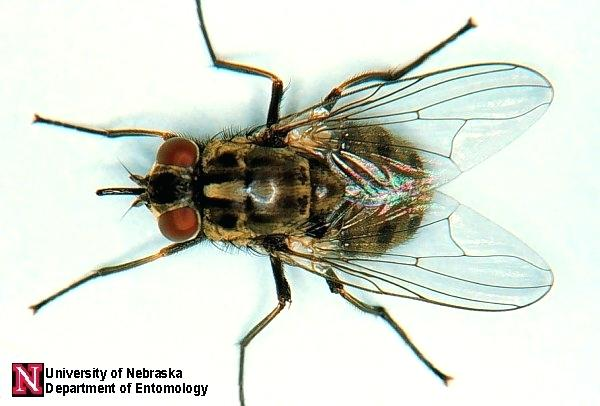house fly: (28, 1, 557, 406)
